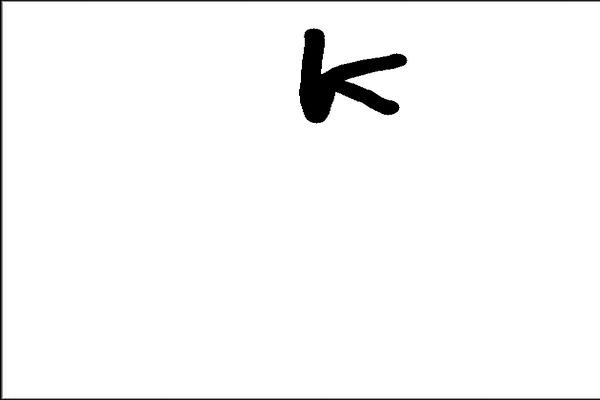K: (288, 18, 413, 127)
